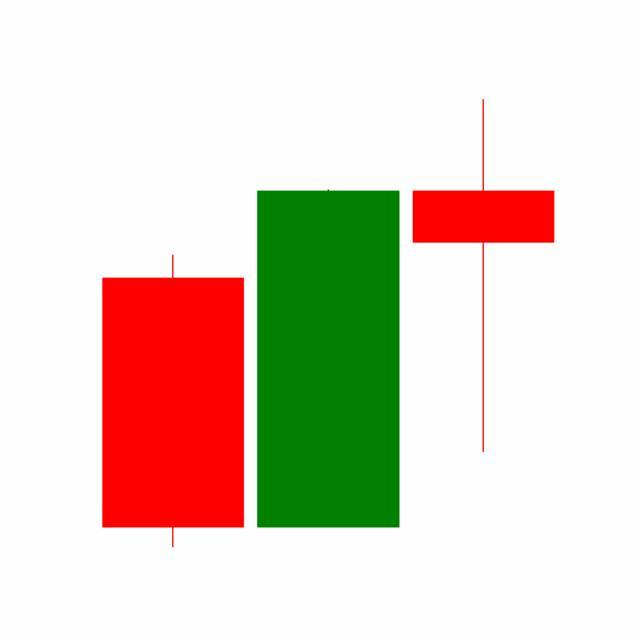Marubozu: (250, 187, 407, 532)
